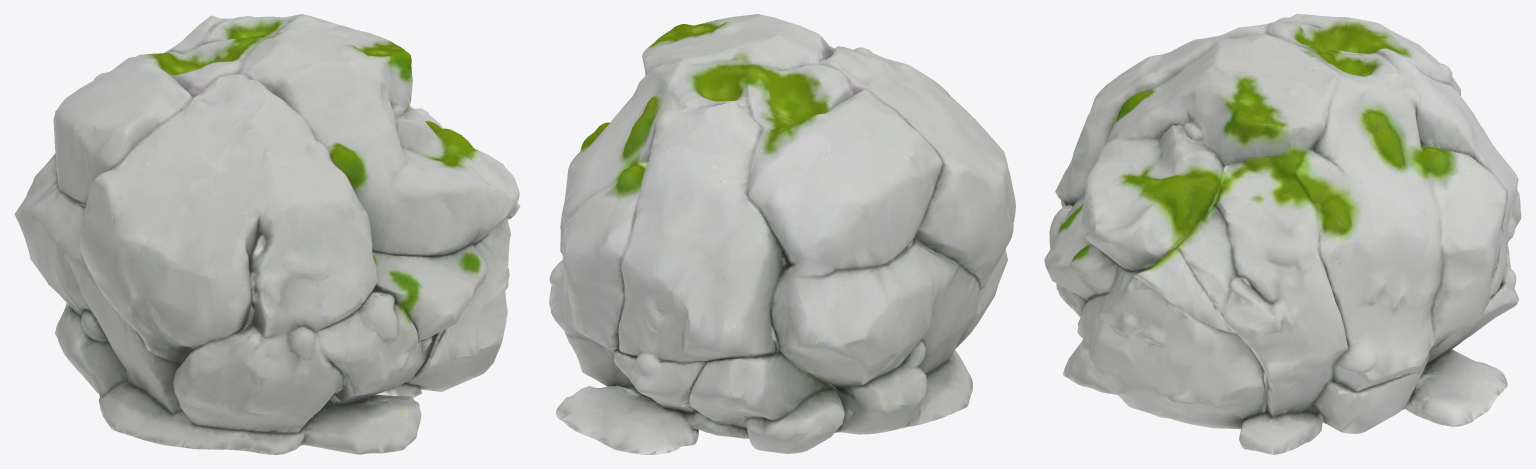
The model's file is rock.glb.
3 renders of one model, left to right at view 1: azimuth 30°, elevation 25°; view 2: azimuth 150°, elevation 25°; view 3: azimuth 270°, elevation 25°, orthographic.
Bounding box in the file's own units: 1.79 × 1.45 × 1.9.
1 material, 1 textured.
